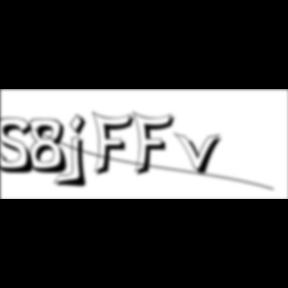8: (30, 117, 74, 176)
F: (92, 110, 140, 178), (133, 110, 181, 178)
S: (0, 117, 40, 176)
j: (66, 113, 94, 191)
v: (174, 131, 228, 177)
